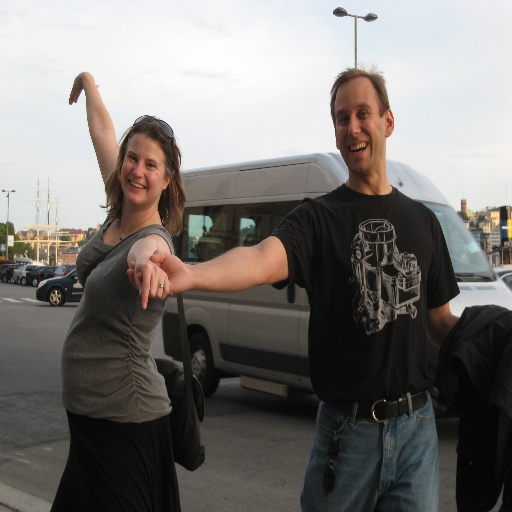hand: (126, 247, 196, 298), (67, 69, 100, 106)
